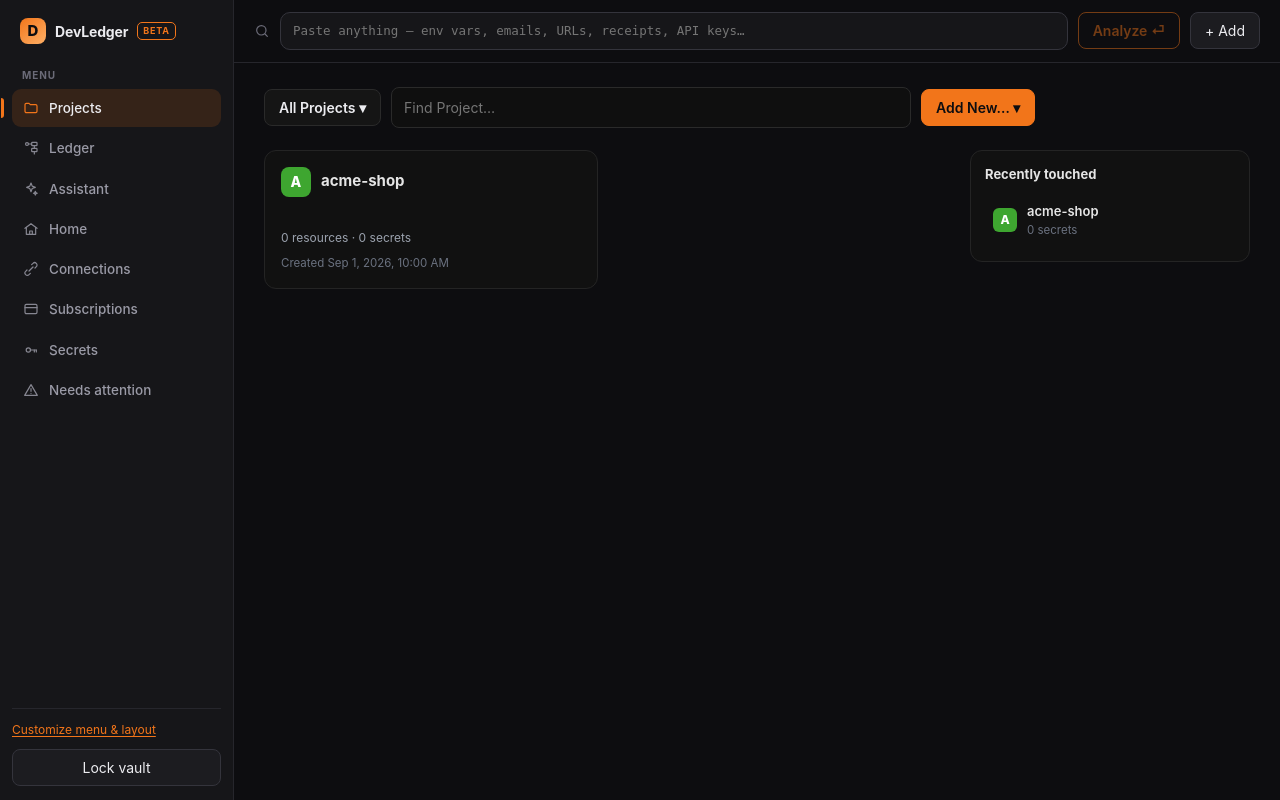
Test case: the sidebar › takes Projects back to the list from inside a project
Step 1. Click the button "acme-shop" → {"x": 363, "y": 181}, box [264,150,598,289]
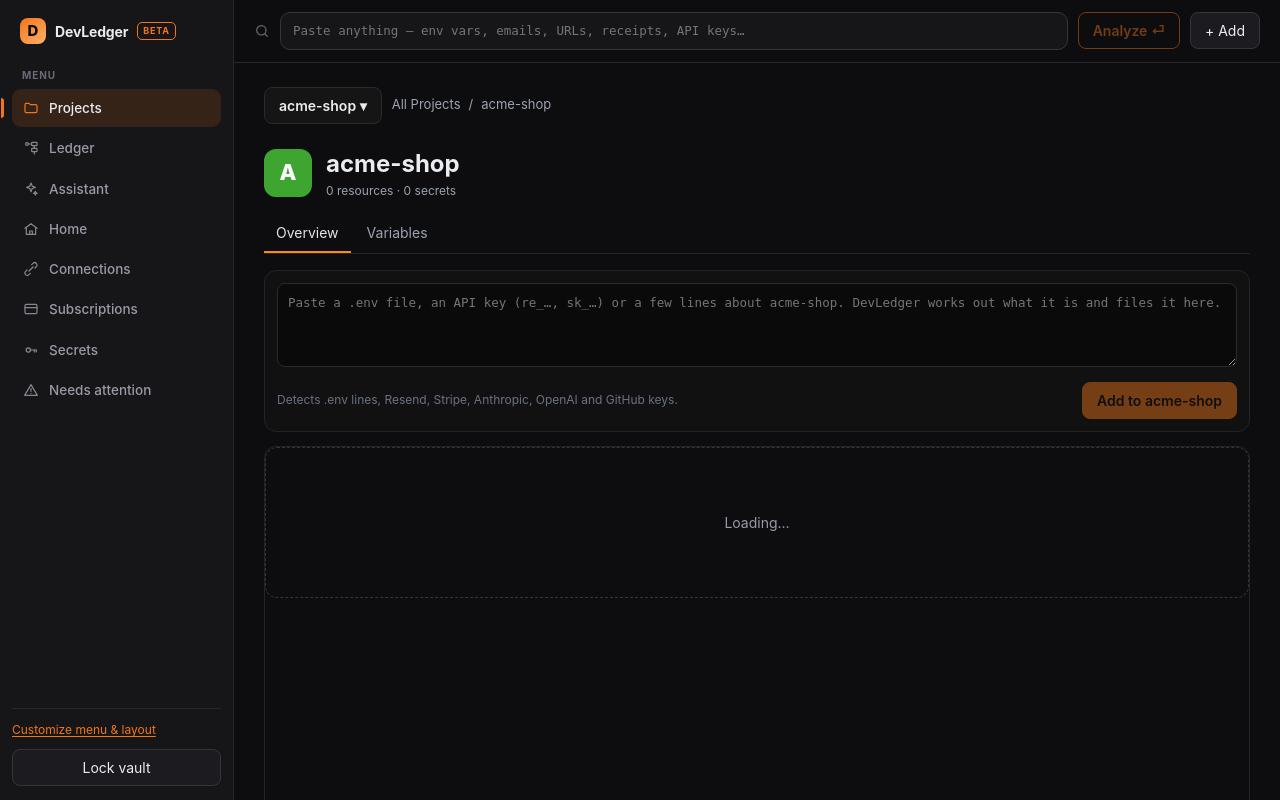
Expected: the navigation bar named "Breadcrumb" is shown, [392,95,551,115]
Step 2. Click the button "Projects" → {"x": 116, "y": 108}, box [12,89,221,127]
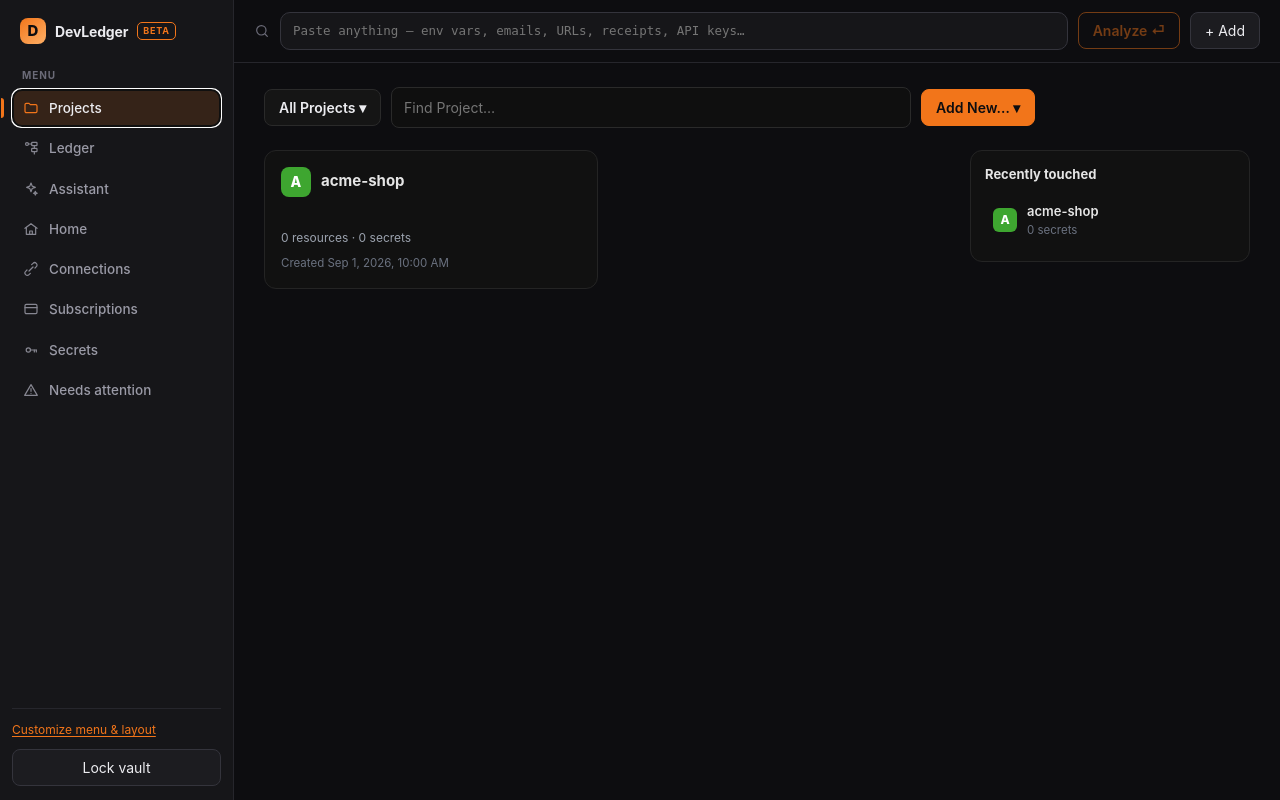
Expected: the navigation bar "Breadcrumb" is gone
Expected: the search field labelled "Find Project" is shown, [391,86,911,128]
